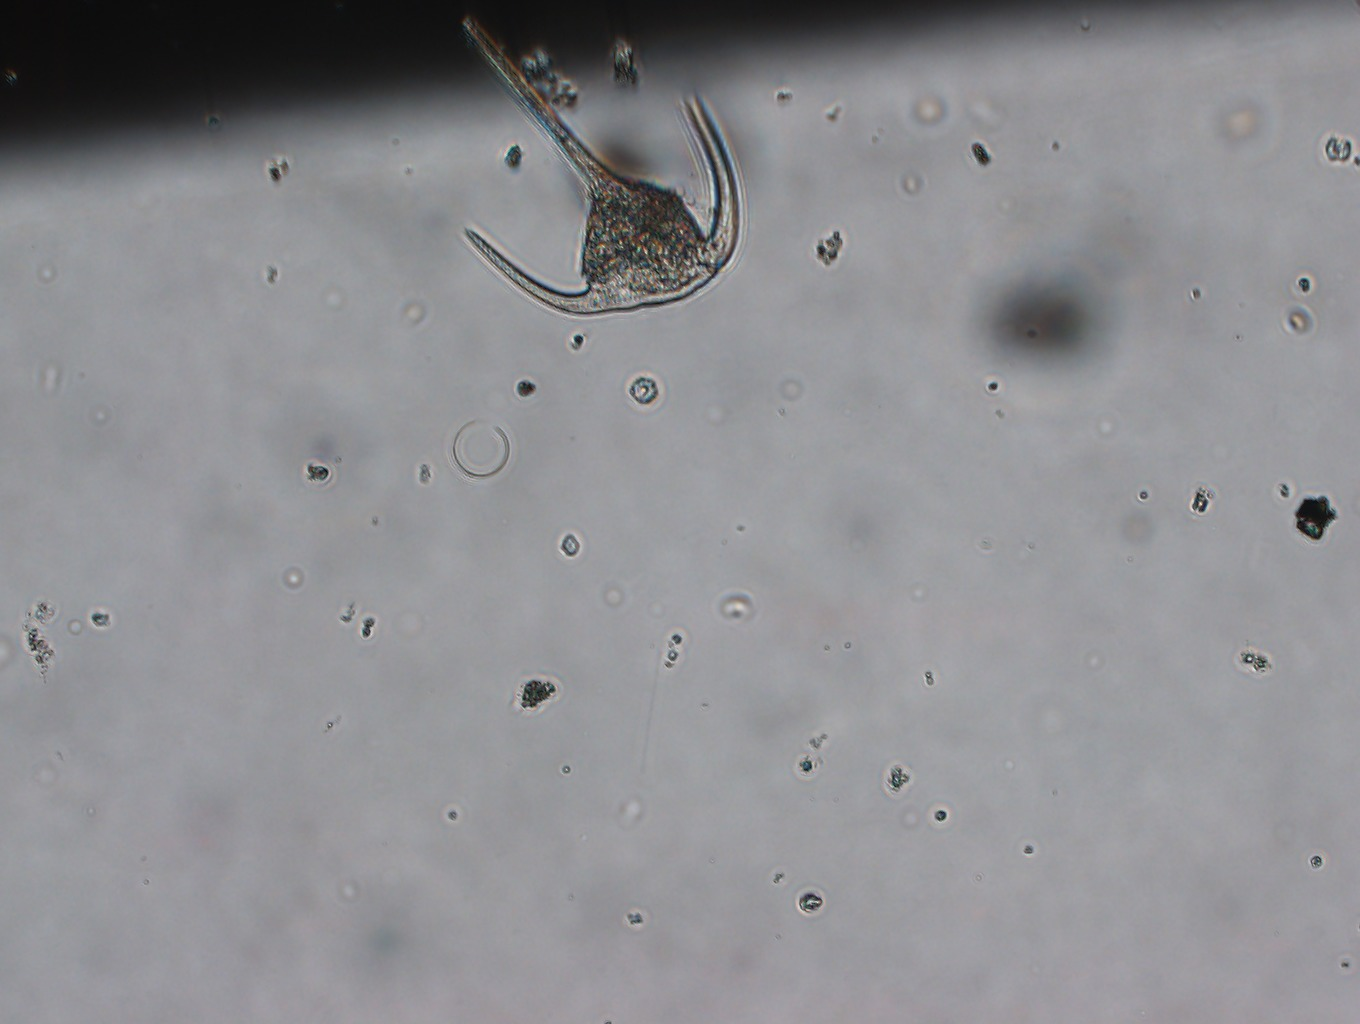ceratium tripos: (442, 10, 748, 324)
